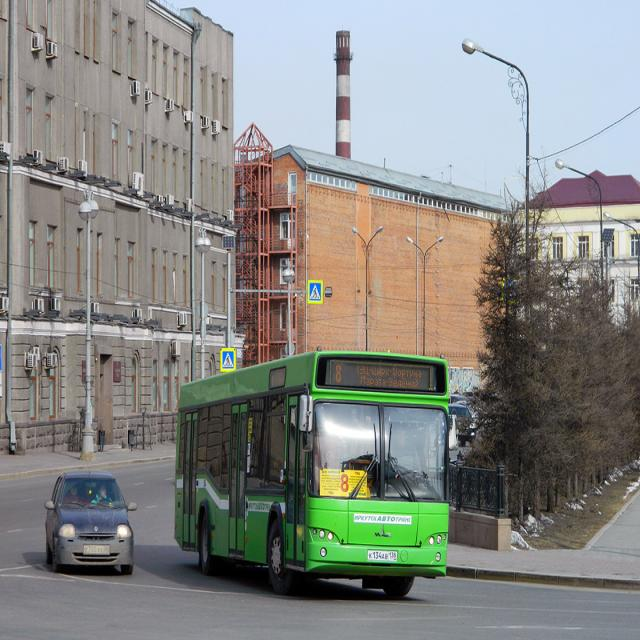number-of-bus: (341, 475, 350, 493)
